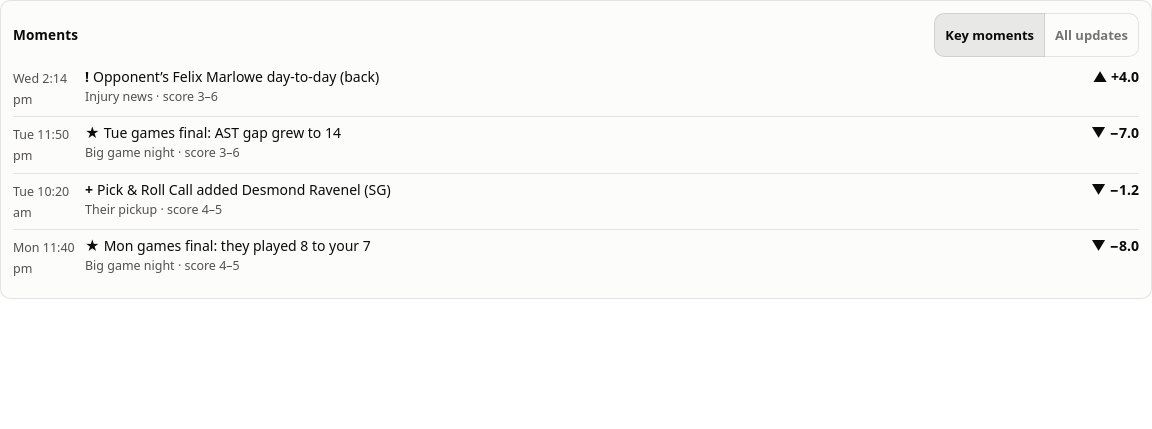
Test: GameCenter › key moments hide lineup-only updates until All updates is chosen
Expected: the text "Missed lock" is not shown
What coordinates should you click on to do the following:
click the button "All updates"
I would click on:
 (1092, 35)
Its box is [1044,13,1139,57].
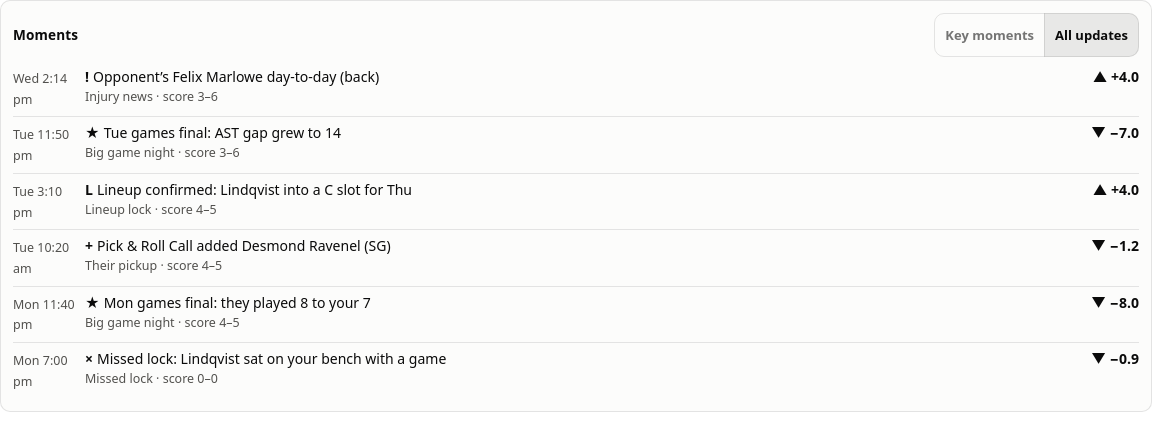
Result: the text "×Missed lock: Lindqvist sat on your bench with a game" is shown at [85,349,446,368]
